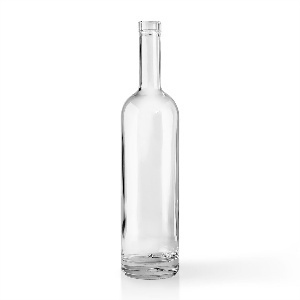emptybottle: (121, 21, 179, 279)
